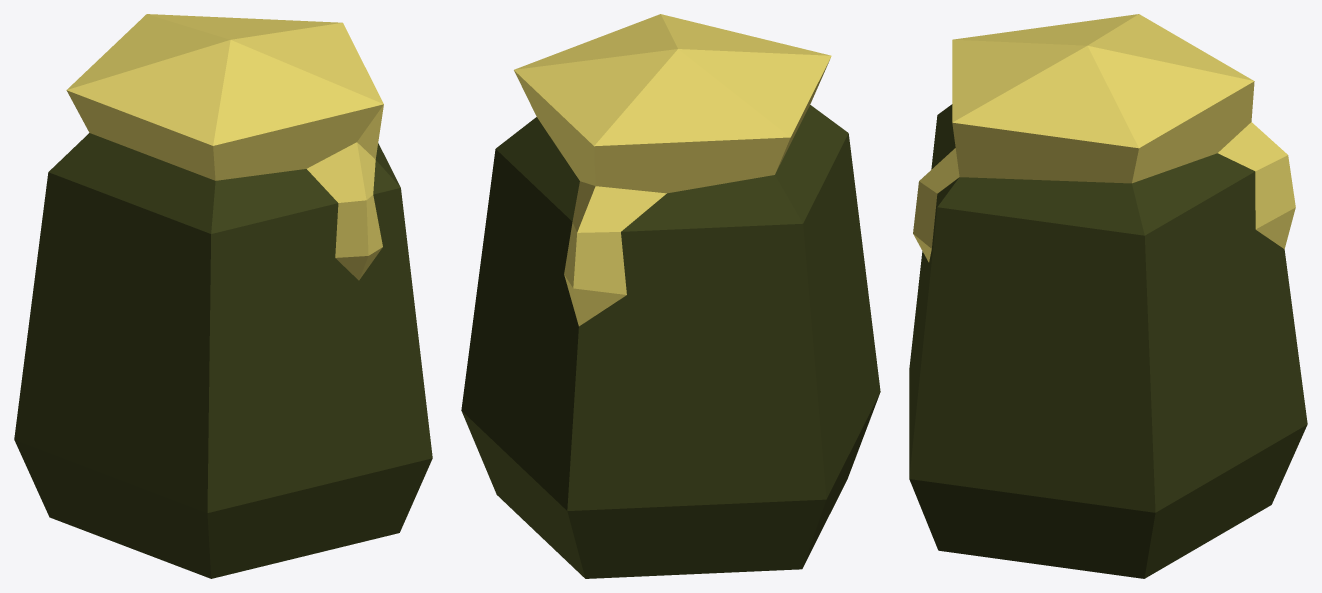
The model's file is PotionA.fbx.
The picture shows the model from 3 angles, left to right: view 1: azimuth 30°, elevation 25°; view 2: azimuth 150°, elevation 25°; view 3: azimuth 270°, elevation 25°; orthographic projection.
Visible parts, largest first — view 1: PotionA; view 2: PotionA; view 3: PotionA.
Part boxes in pixels (x1=…): PotionA: x1=14, y1=14, x2=432, y2=578; PotionA: x1=461, y1=14, x2=880, y2=578; PotionA: x1=909, y1=14, x2=1307, y2=578.
Bounding box in the file's own units: 13.59 × 16.43 × 12.92.
